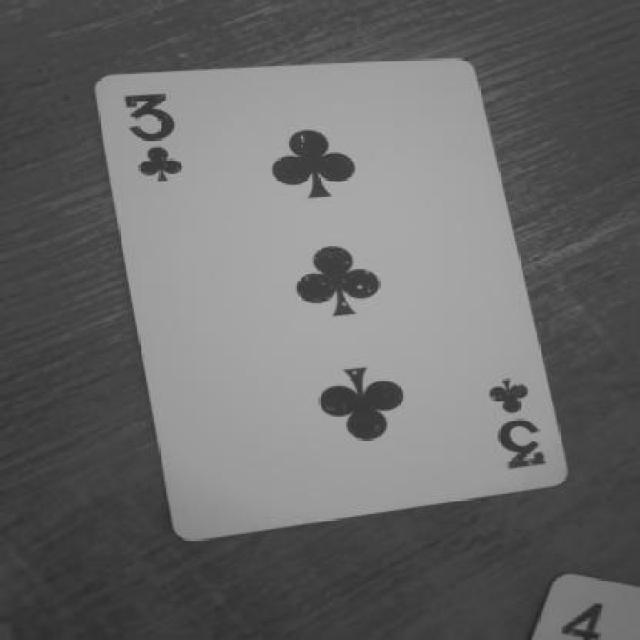3C: (476, 364, 564, 488), (122, 85, 193, 197)
